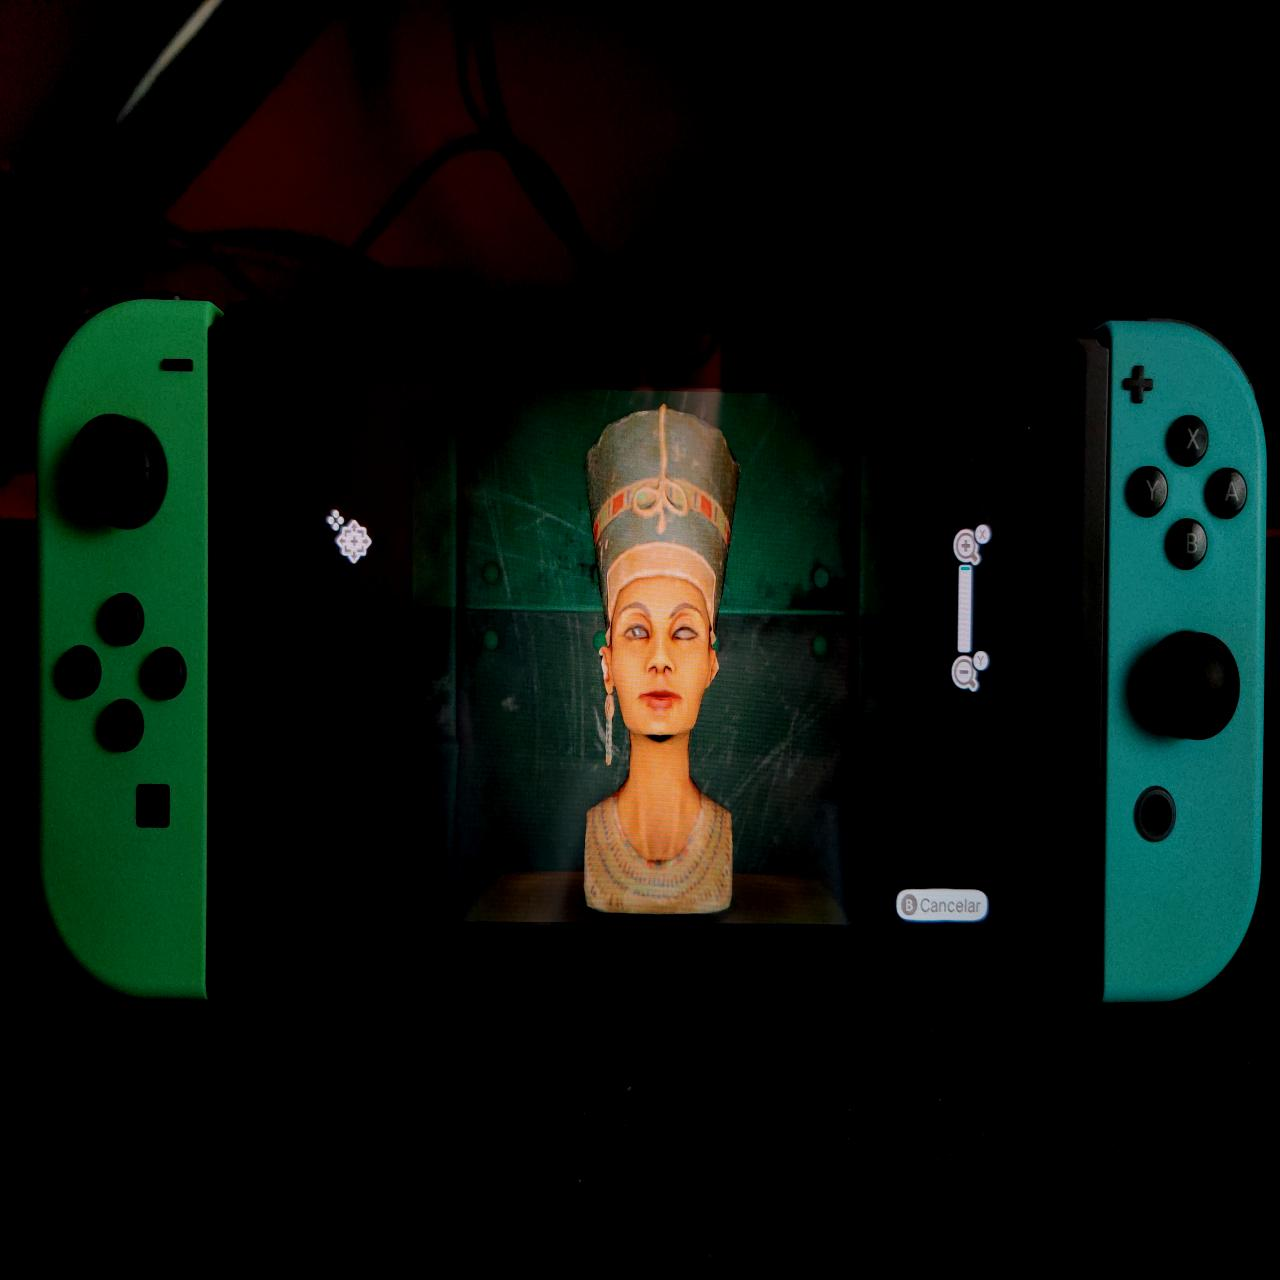NefertitiFake: (577, 407, 743, 915)
